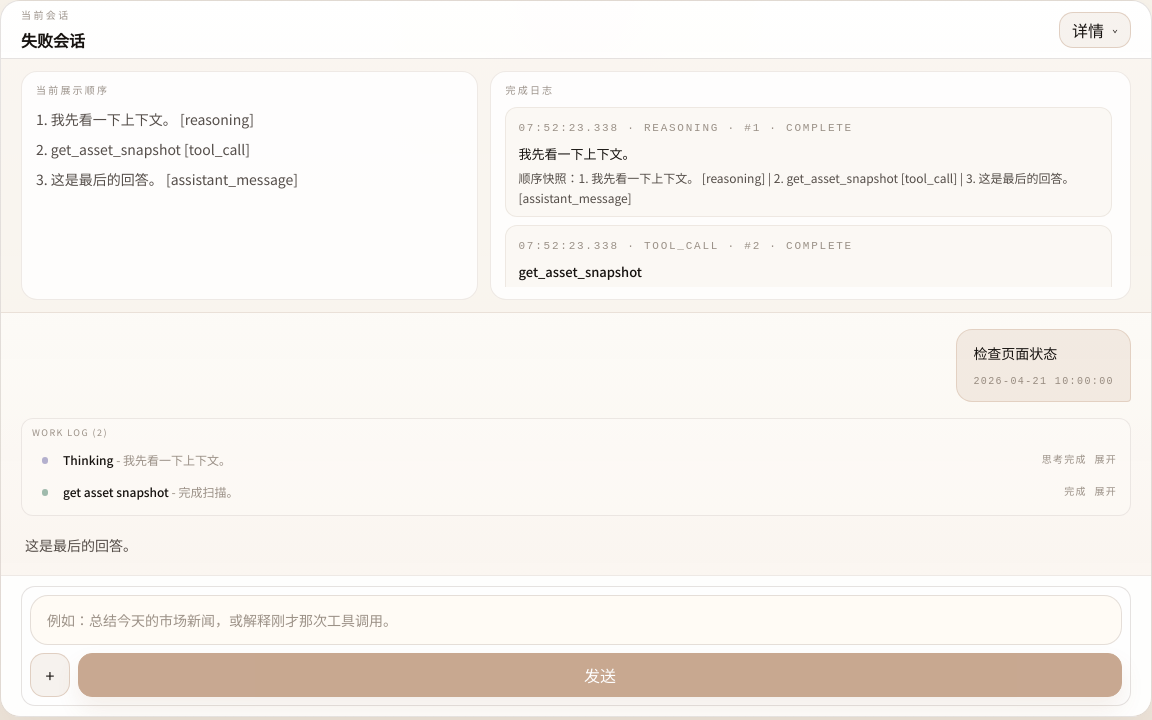
Test: PiConversationPane › shows debug completion logs and current display order when debug mode is enabled
Click the button with test id "pi-agent-session-info-toggle" at (1095, 30), box 1059,12 -> 1131,48
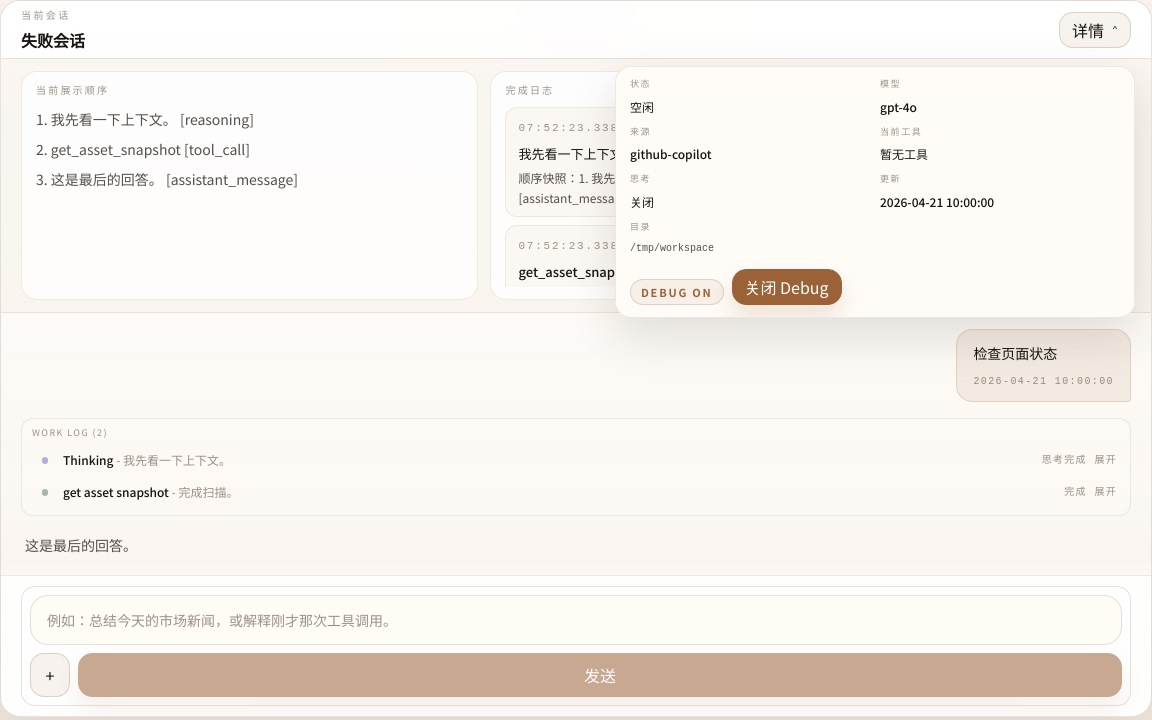
Expected: the element with test id "pi-agent-debug-panel" shows "当前展示顺序", 36,86 -> 109,97
Expected: the button with test id "pi-agent-debug-toggle" reads "关闭 Debug", 732,269 -> 842,305
